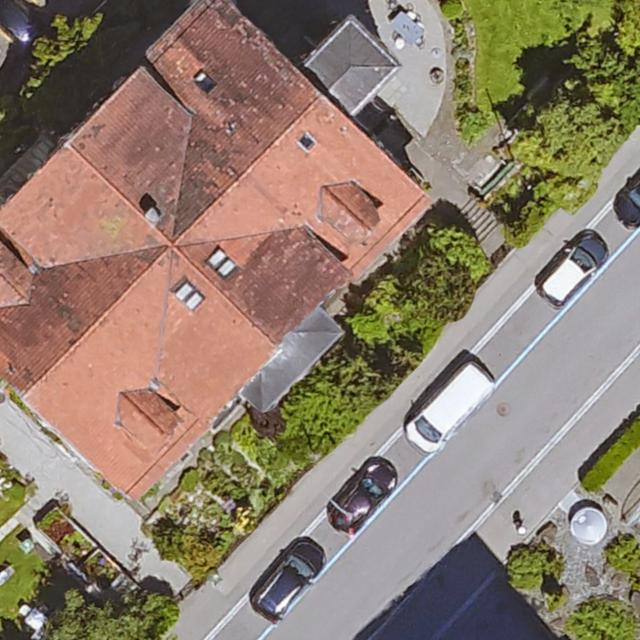tree: (13, 16, 120, 113), (512, 90, 618, 180), (570, 5, 640, 126), (51, 591, 169, 640), (404, 253, 474, 320), (565, 599, 639, 640)
